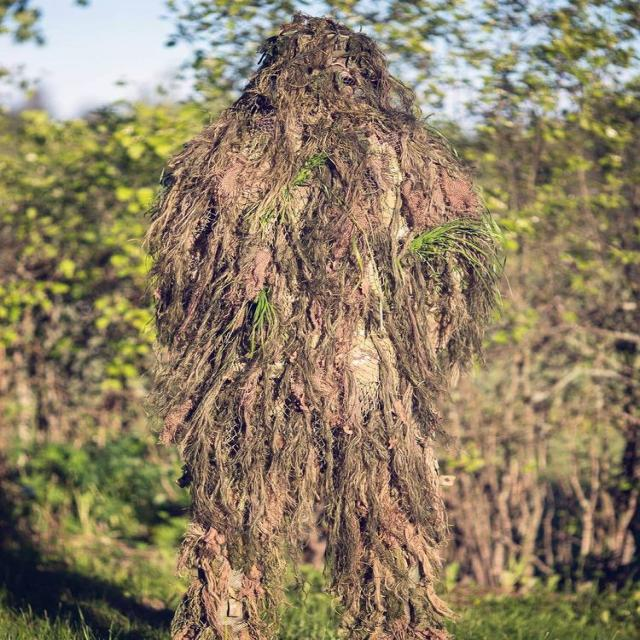Camouflage: (136, 14, 499, 618)
